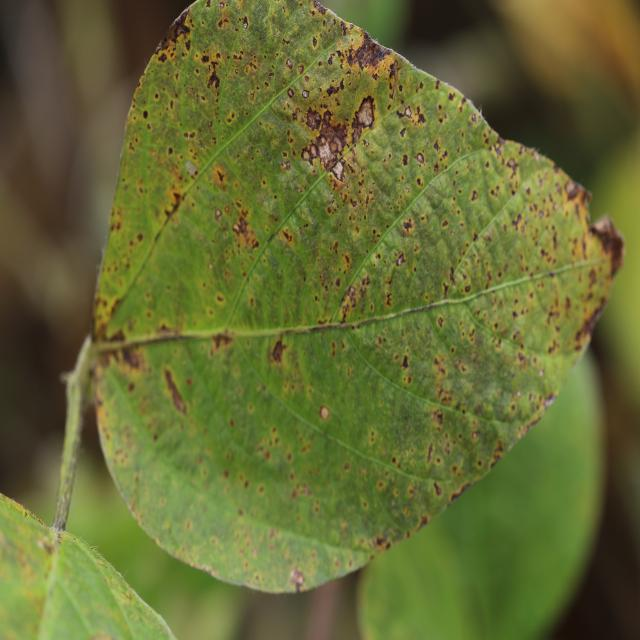Bacterial_Blight: (590, 212, 626, 278), (344, 27, 390, 74), (350, 95, 377, 147), (488, 388, 527, 422), (163, 366, 188, 414), (338, 281, 367, 320), (265, 329, 295, 365), (574, 309, 601, 345), (232, 215, 258, 248), (565, 178, 590, 203), (119, 345, 143, 369), (164, 191, 182, 218), (488, 441, 504, 469), (211, 332, 233, 352), (206, 63, 221, 90), (304, 108, 322, 130), (290, 566, 305, 592), (39, 535, 57, 555), (173, 22, 191, 41), (291, 483, 311, 500), (105, 328, 126, 343), (331, 160, 345, 181), (326, 81, 343, 98), (506, 157, 519, 178), (455, 482, 472, 497), (313, 2, 328, 18), (50, 519, 66, 534), (185, 160, 199, 177), (415, 107, 427, 125), (543, 394, 556, 410), (512, 213, 523, 231), (375, 535, 388, 549), (282, 228, 294, 243), (244, 60, 256, 75), (111, 216, 122, 232), (217, 15, 229, 29), (402, 218, 413, 233), (434, 410, 444, 426), (341, 252, 351, 268), (417, 516, 428, 530), (497, 134, 508, 148), (517, 351, 527, 366), (319, 406, 329, 420), (226, 110, 236, 124), (427, 443, 434, 462), (396, 253, 405, 267), (433, 482, 442, 496), (216, 169, 225, 183), (233, 51, 244, 62), (69, 533, 80, 544), (415, 152, 425, 164), (433, 138, 441, 153), (449, 266, 456, 283), (301, 150, 310, 161), (158, 52, 167, 63), (184, 130, 195, 139), (402, 355, 409, 369), (385, 293, 392, 307), (470, 190, 478, 202), (402, 153, 409, 166), (201, 54, 210, 64), (287, 88, 295, 99), (214, 208, 222, 219), (286, 58, 293, 70), (242, 17, 249, 29), (127, 382, 135, 392), (471, 431, 479, 441), (216, 293, 224, 303), (399, 127, 406, 138), (297, 64, 304, 75), (437, 317, 444, 328), (405, 106, 412, 117), (136, 233, 143, 243), (233, 223, 240, 233), (470, 113, 477, 123), (335, 277, 341, 288), (312, 37, 318, 48), (343, 462, 350, 471), (442, 219, 449, 228), (302, 90, 309, 98), (464, 285, 471, 293), (142, 110, 148, 119), (168, 146, 174, 155), (223, 469, 229, 478), (285, 161, 291, 170), (249, 92, 255, 101), (539, 368, 545, 377), (512, 311, 518, 319), (282, 150, 288, 158), (224, 205, 230, 213), (219, 1, 225, 9), (516, 390, 522, 398), (208, 263, 214, 270), (24, 511, 28, 518)
Soybean: (55, 0, 624, 592)
